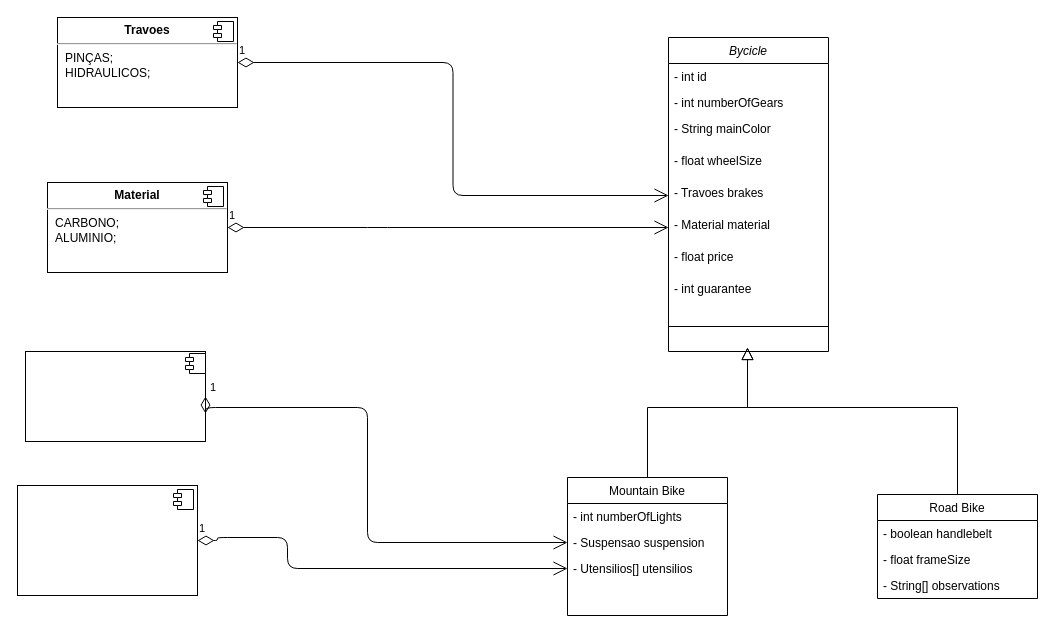
The diagram is 1055 pixels wide and 633 high, and some of its shapes have lost their labels. The centre of each missing label's shape, as x and y in pixels:
"Suspensao SIMPLES; DUPLA; SEM_SUSPENSAO;" belongs at [115,396].
"Utensilios GARRAFA_AGUA; KIT_PNEU; CONTA_KM; ALFORJE; SUPORTE_TLM;" belongs at [107,540].
